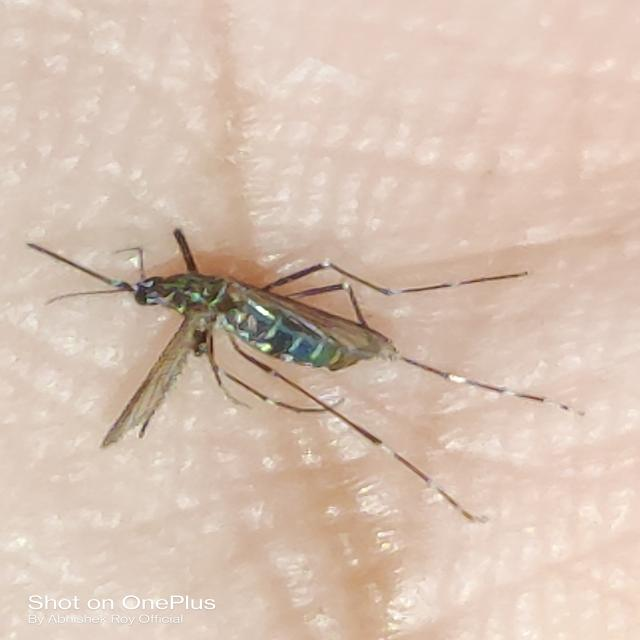aegypti: (33, 195, 556, 520)
